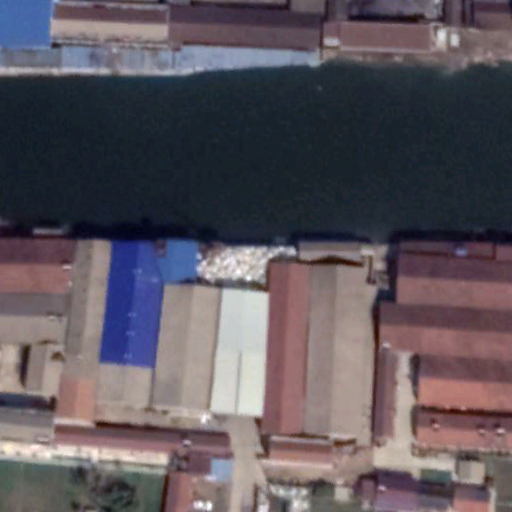msw: (198, 243, 298, 290)
